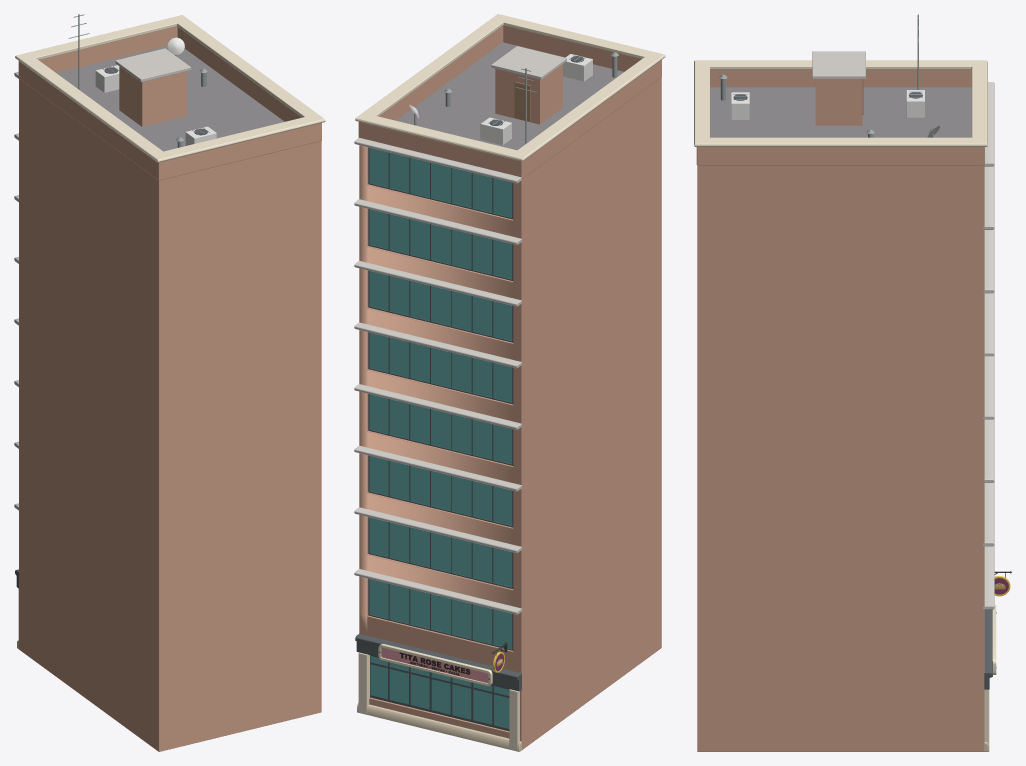
Rendered from far_glassmid_19.glb.
The picture shows the model from 3 angles, left to right: view 1: azimuth 30°, elevation 25°; view 2: azimuth 150°, elevation 25°; view 3: azimuth 270°, elevation 25°; orthographic projection. The views are drawn at different scales.
Visible parts, largest first — view 1: shell, trim, props; view 2: shell, trim, frames, props, sign_tita_rose_cakes; view 3: shell, trim, props.
Boxes of the visible parts, left/top/right/bottom form: shell: left=19, top=46, right=321, bottom=751; trim: left=14, top=15, right=325, bottom=649; props: left=68, top=14, right=216, bottom=147; shell: left=359, top=42, right=661, bottom=749; trim: left=354, top=14, right=665, bottom=751; frames: left=368, top=147, right=513, bottom=731; props: left=409, top=46, right=618, bottom=144; sign_tita_rose_cakes: left=378, top=643, right=492, bottom=686; shell: left=697, top=87, right=984, bottom=751; trim: left=694, top=60, right=994, bottom=751; props: left=719, top=14, right=940, bottom=137.
Size of the model in its own units: 9.71 by 35.98 by 15.48.
